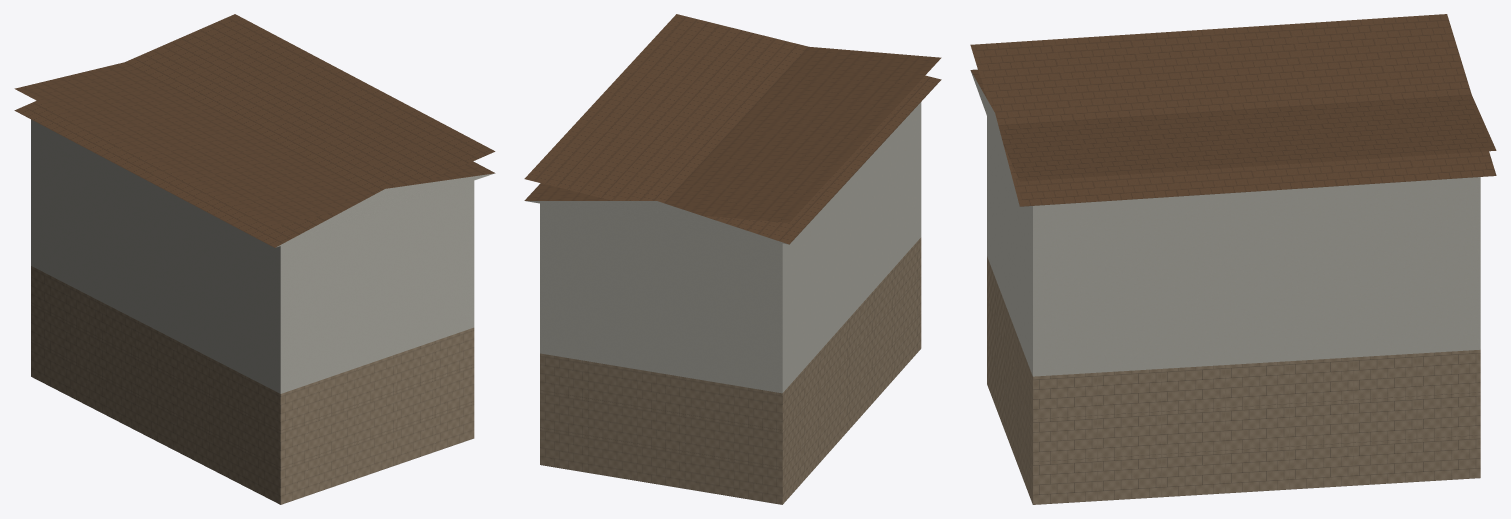
Rendered from bld_c33_-38_442.gltf.
3 renders of one model, left to right at view 1: azimuth 30°, elevation 25°; view 2: azimuth 150°, elevation 25°; view 3: azimuth 270°, elevation 25°, orthographic. The views are drawn at different scales.
Parts seen in each view (by area): view 1: bld_c33_-38_442; view 2: bld_c33_-38_442; view 3: bld_c33_-38_442.
Part boxes in pixels (x1,y1,x2,y2): bld_c33_-38_442: [14, 14, 495, 504]; bld_c33_-38_442: [524, 14, 941, 504]; bld_c33_-38_442: [970, 14, 1496, 504].
Size of the model in its own units: 14.28 by 13.2 by 18.95.
4 materials, 4 textured.
